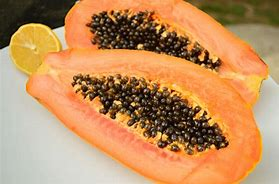papaya: (26, 49, 264, 184), (63, 1, 271, 104)
